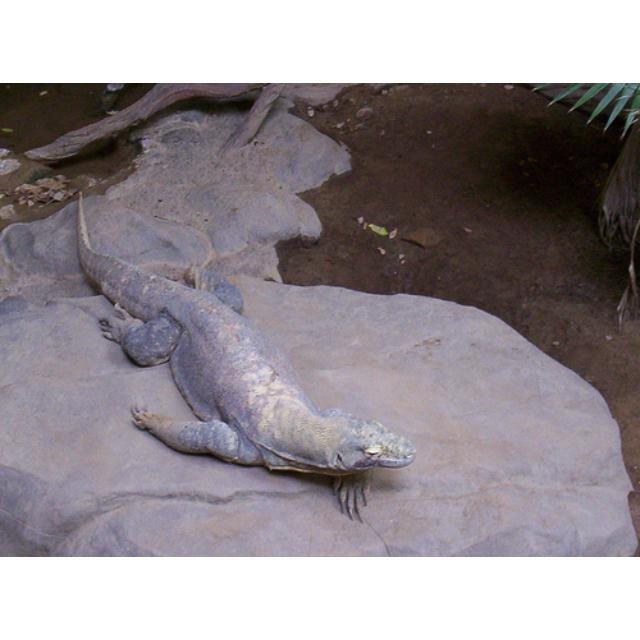KomodoDragon: (70, 182, 419, 528)
